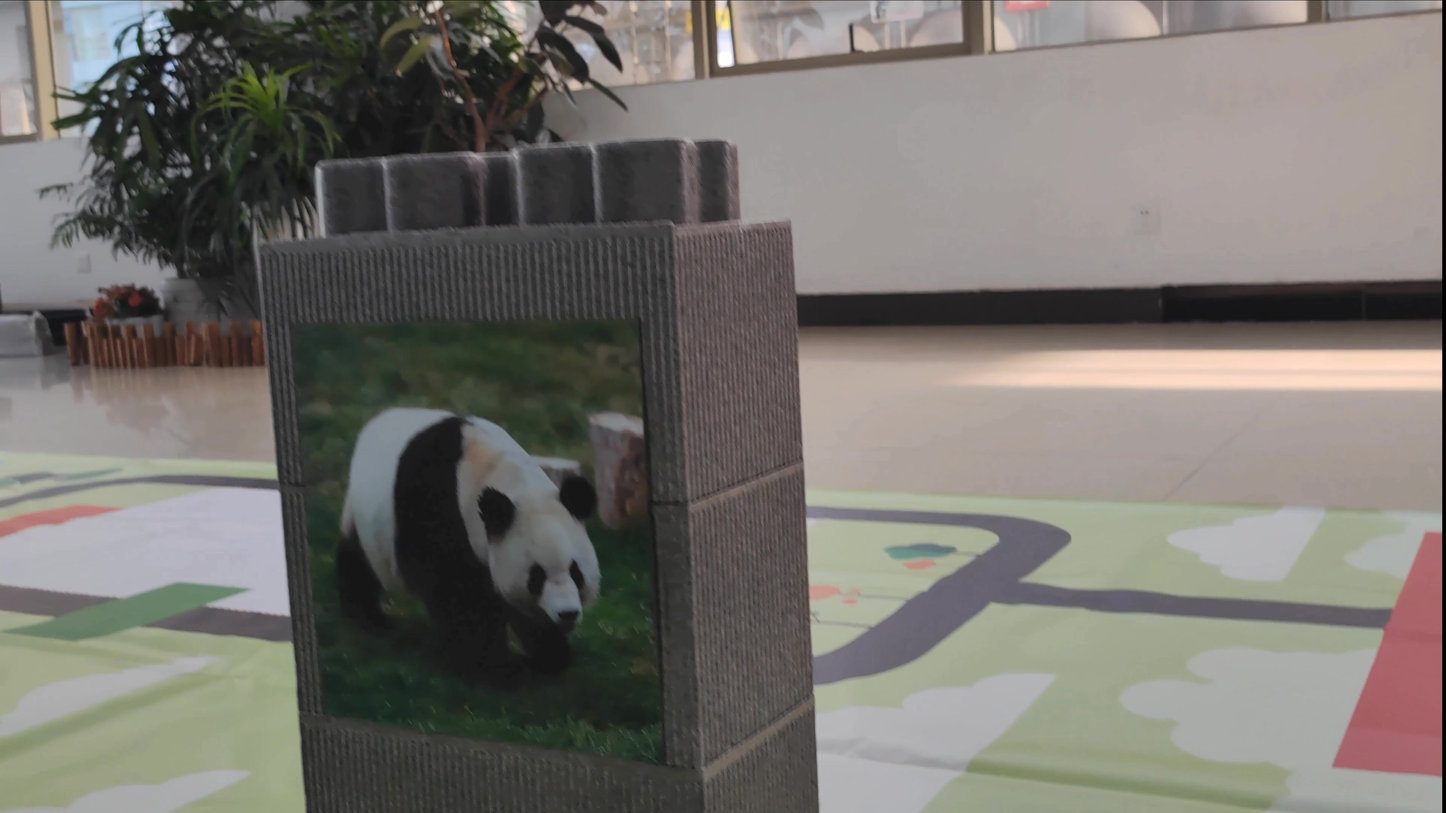panda: (311, 364, 625, 670)
